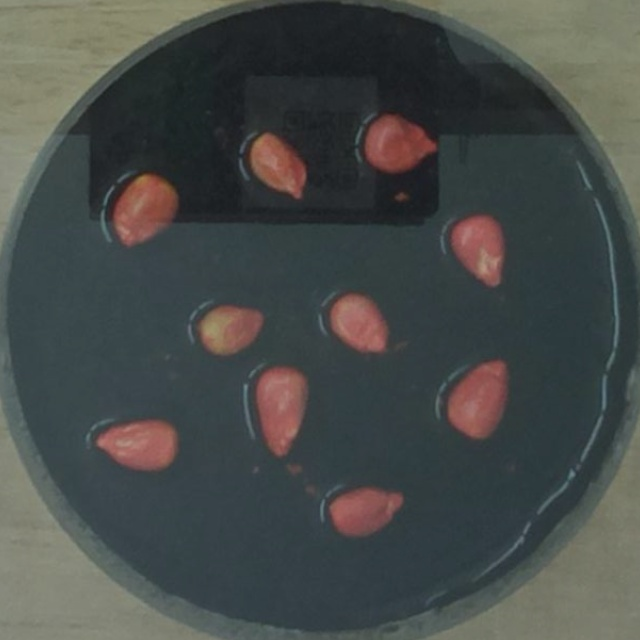Zea mays: (439, 351, 519, 447), (104, 164, 187, 253), (246, 358, 315, 465), (358, 104, 446, 181), (442, 208, 517, 298), (86, 412, 184, 480), (321, 283, 400, 367), (240, 123, 315, 210), (322, 478, 411, 545), (190, 296, 270, 364)
